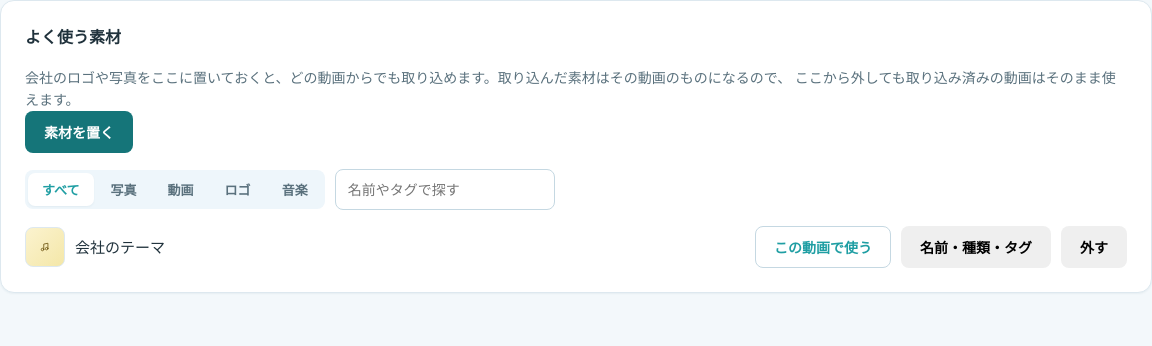
Test: AssetLibraryPanel › 音を取り込んだときは、素材の一覧ではなくBGMの導線を案内する
Click the button "この動画で使う" at (823, 247), box x1=755 y1=226 x2=891 y2=268
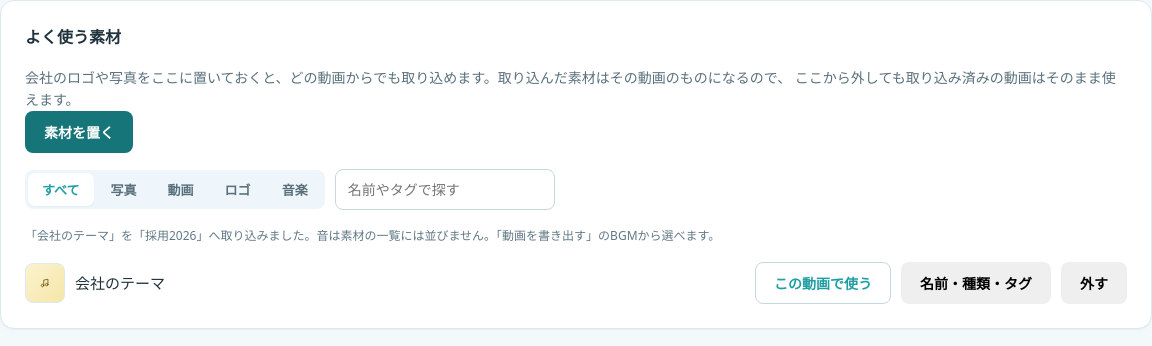
Check: the text "BGMから選べます" is shown, box x1=25 y1=227 x2=720 y2=244
